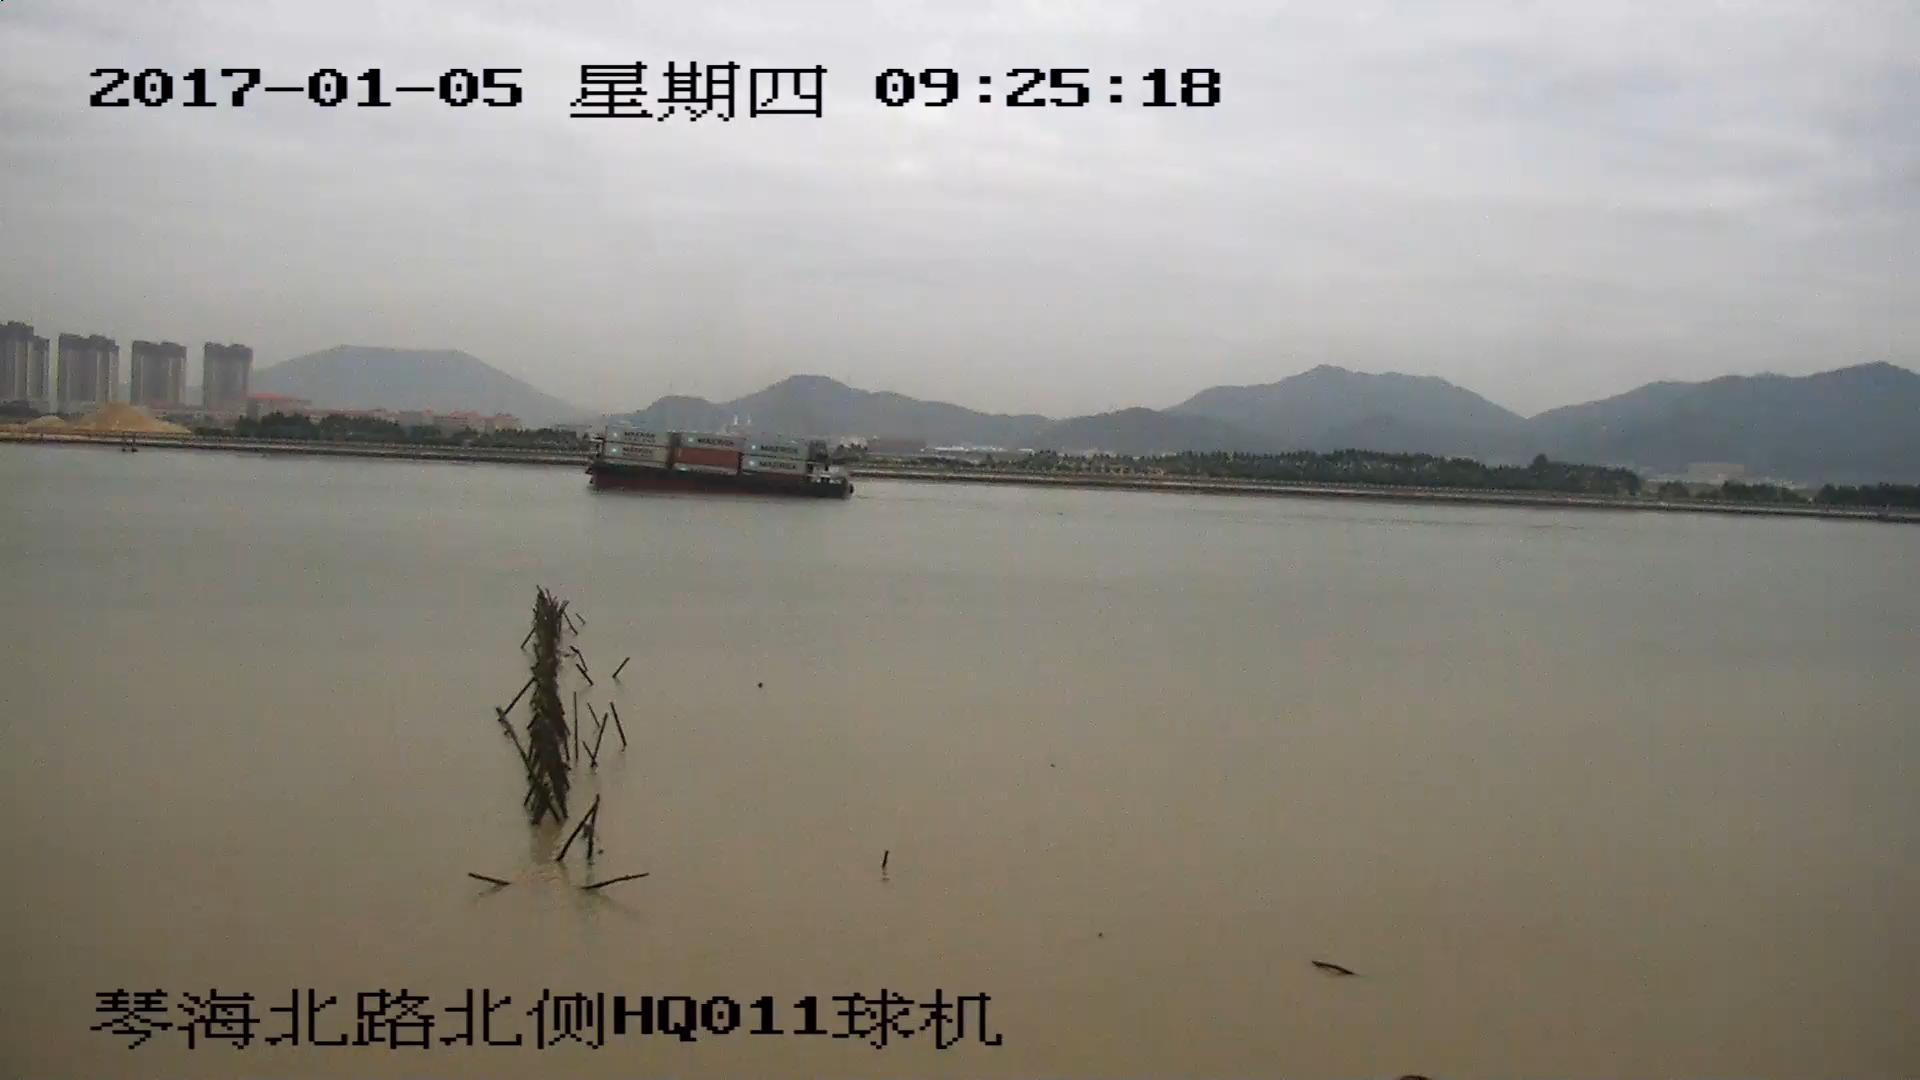container ship: (587, 427, 851, 498)
